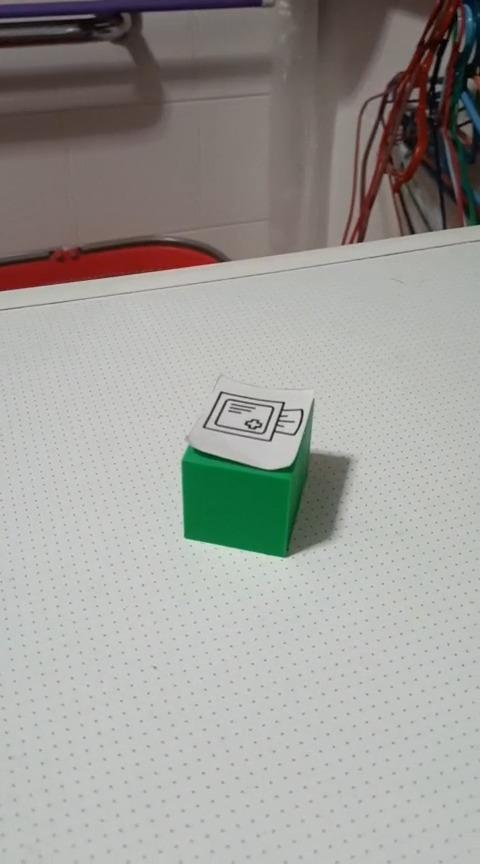Gauze: (180, 373, 315, 557)
